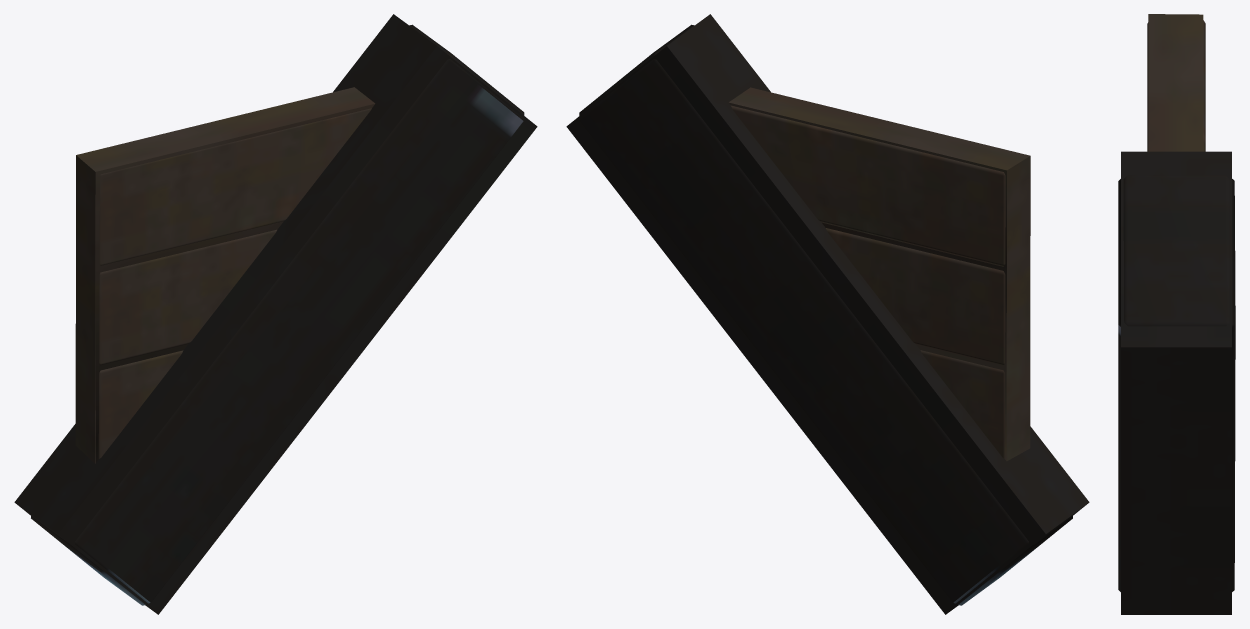
The model's file is ashwood_wall_roof_45_upsidedown.glb.
3 views of the same model, side by side, from view 1: azimuth 30°, elevation 25°; view 2: azimuth 150°, elevation 25°; view 3: azimuth 270°, elevation 25° (orthographic). The views are drawn at different scales.
Parts seen in each view (by area): view 1: geometry_0; view 2: geometry_0; view 3: geometry_0.
Part boxes in pixels (box(x1,y1,x2,y2)): geometry_0: box(14, 14, 537, 614); geometry_0: box(566, 14, 1089, 614); geometry_0: box(1118, 14, 1235, 614).
Size of the model in its own units: 2.53 by 2.53 by 0.4224.
Materials: 1 (1 with a texture image).
